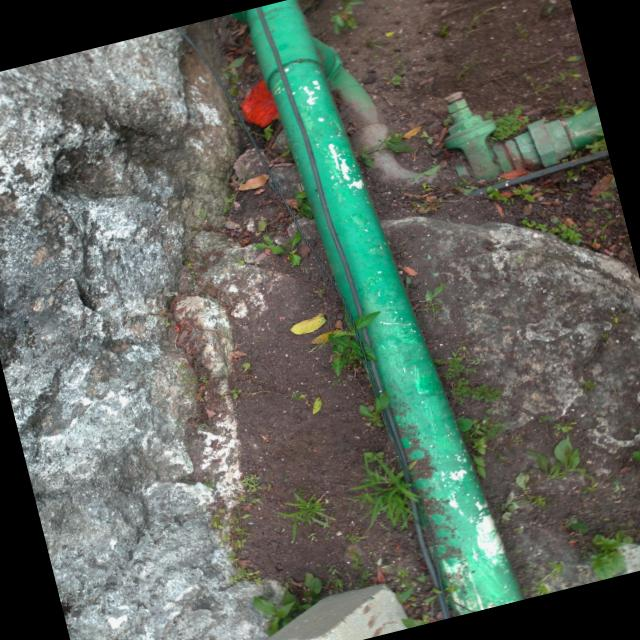gas: (243, 0, 523, 615)
